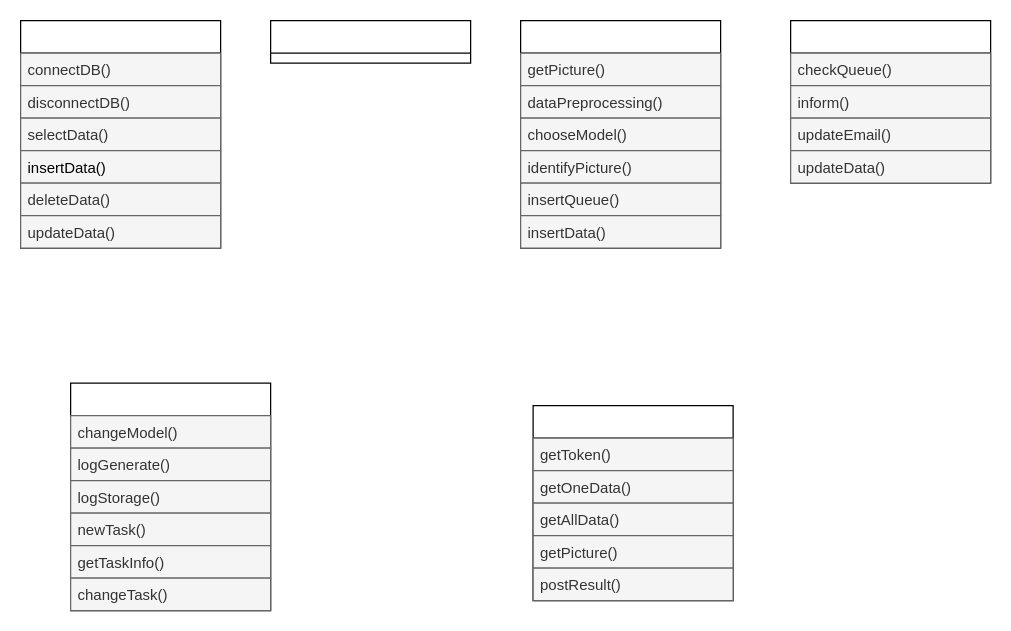
Image size: 1011x631. Some labels were removed from this diagram. The shapes that lost their labels are listed below. From the top down, each one's box as (x1, y1, x2, y2) in pixels, then its label:
(269, 19, 471, 63): DataBase
(789, 19, 991, 183): alarmClass
(19, 19, 221, 248): mysqlDBClass
(519, 19, 721, 248): riskAnalysis
(69, 382, 271, 611): sysManage
(532, 404, 733, 601): dataAPI
